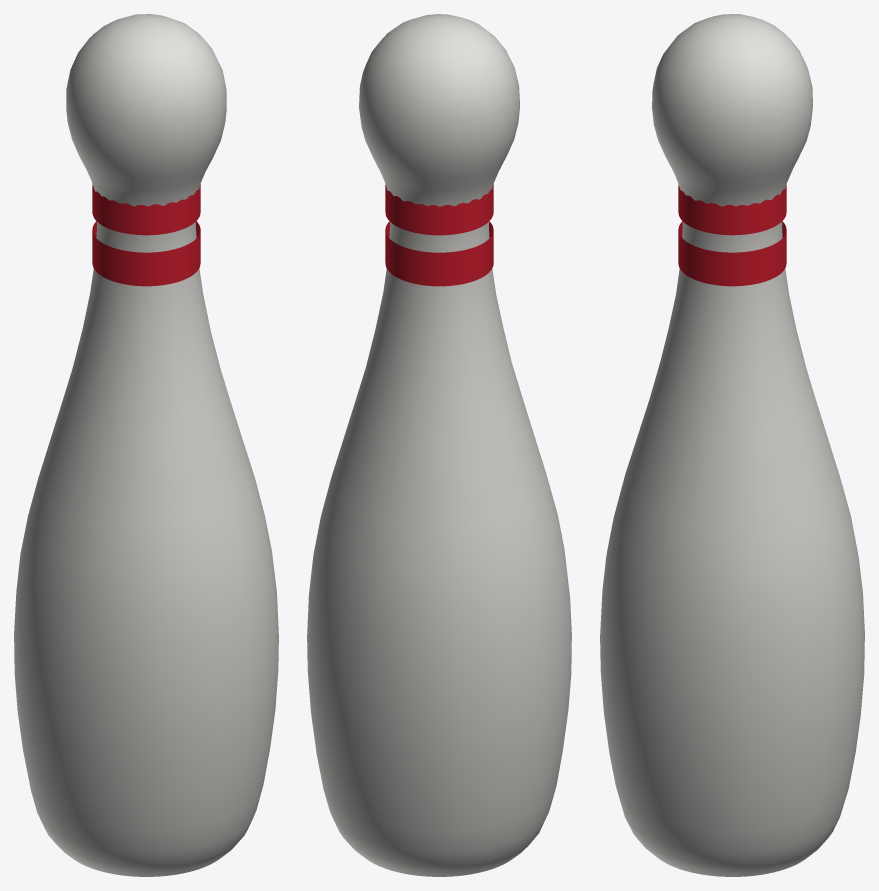
Rendered from neon-competition-pin-mobile-v1.glb.
3 views of the same model, side by side, from view 1: azimuth 30°, elevation 25°; view 2: azimuth 150°, elevation 25°; view 3: azimuth 270°, elevation 25° (orthographic).
Parts seen in each view (by area): view 1: PinBody; view 2: PinBody; view 3: PinBody.
Boxes of the visible parts, <box> form: PinBody: <box>14,14,278,876</box>; PinBody: <box>307,14,571,876</box>; PinBody: <box>600,14,864,876</box>.
Bounding box in the file's own units: 0.2352 × 0.803 × 0.2352.
